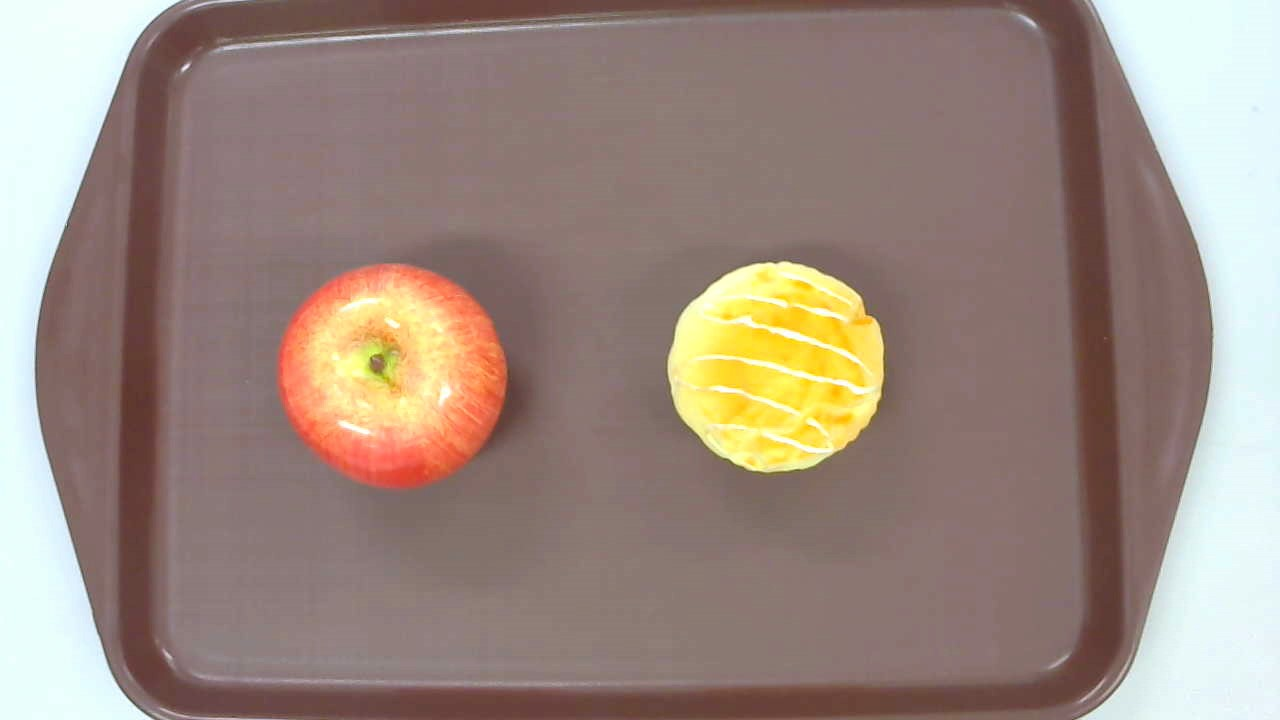cupcake: (667, 260, 883, 475)
red apple: (276, 262, 507, 491)
